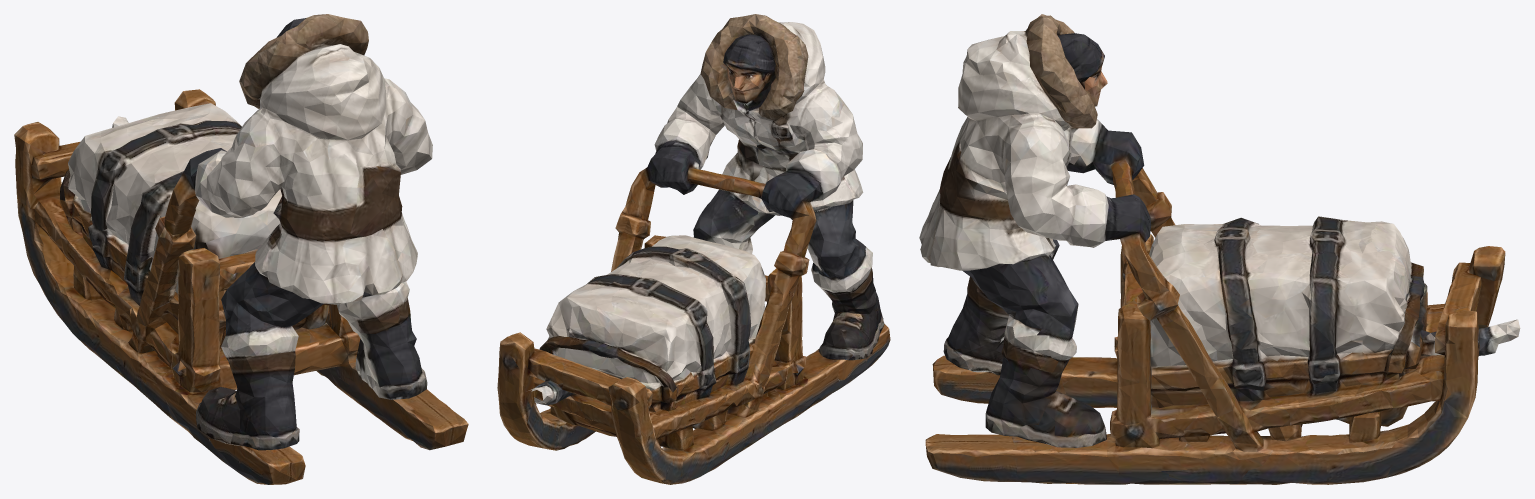
The model's file is sled.glb.
3 renders of one model, left to right at view 1: azimuth 30°, elevation 25°; view 2: azimuth 150°, elevation 25°; view 3: azimuth 270°, elevation 25°, orthographic. The views are drawn at different scales.
Parts seen in each view (by area): view 1: geometry_0; view 2: geometry_0; view 3: geometry_0.
Boxes of the visible parts, x1,y1,x2,y2 form: geometry_0: [14, 14, 468, 484]; geometry_0: [497, 14, 890, 484]; geometry_0: [919, 14, 1520, 484].
Bounding box in the file's own units: 0.1997 × 0.3395 × 0.4399.
Materials: 1 (1 with a texture image).
